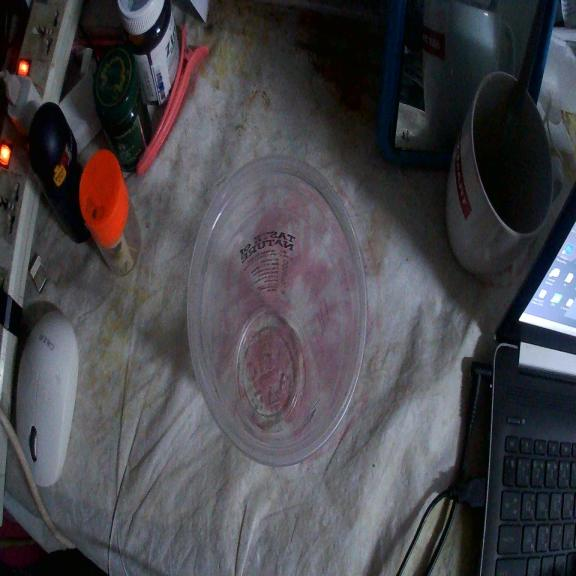Plastik: (187, 151, 367, 467)
